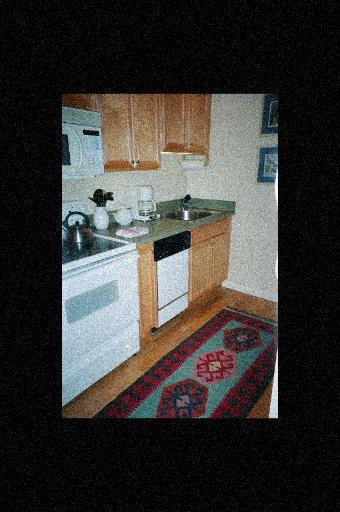Electrodomestico: (62, 198, 139, 407), (157, 234, 189, 331)
Lavaplatos: (160, 192, 225, 224)
